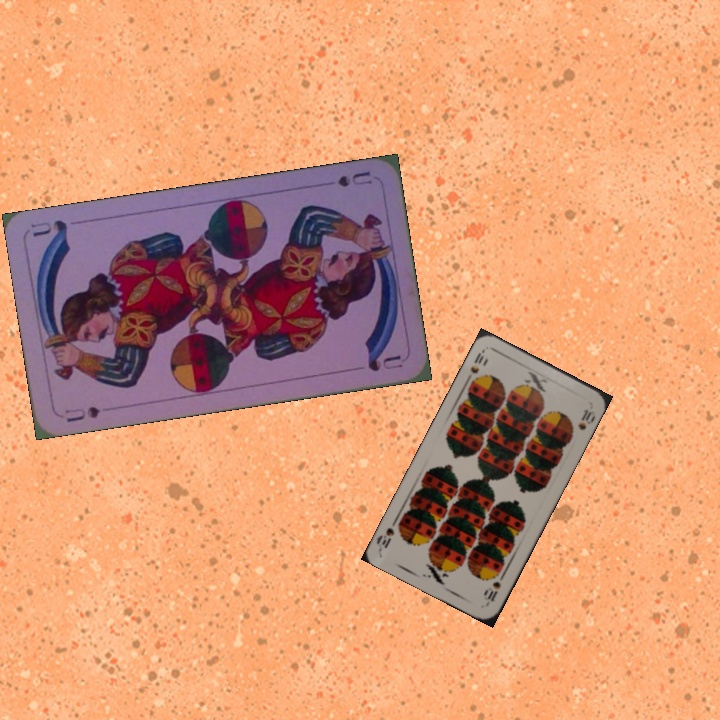S10: (480, 569, 507, 607), (462, 346, 487, 385)
SU: (61, 402, 103, 425), (333, 167, 374, 189)
